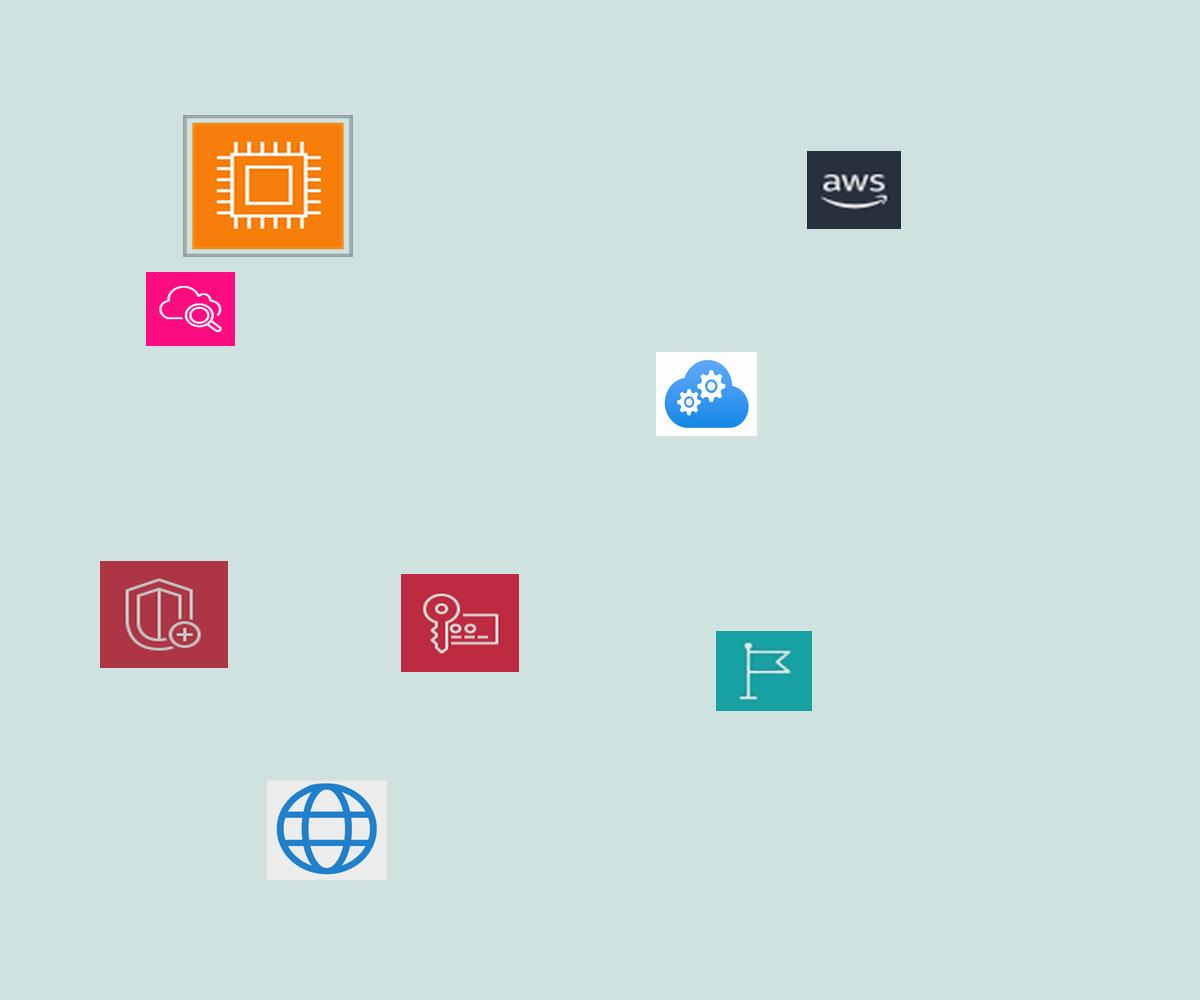AWS-Category_Compute: (183, 115, 353, 257)
AWS-Cloud-logo: (807, 151, 901, 229)
AWS-CloudWatch: (146, 272, 235, 346)
AWS-Key-Management-Service: (401, 574, 519, 672)
AWS-Region: (716, 631, 812, 711)
AWS-Shield: (100, 561, 228, 668)
Azure_cloud_services: (656, 352, 757, 436)
Azure_http: (267, 780, 387, 880)
